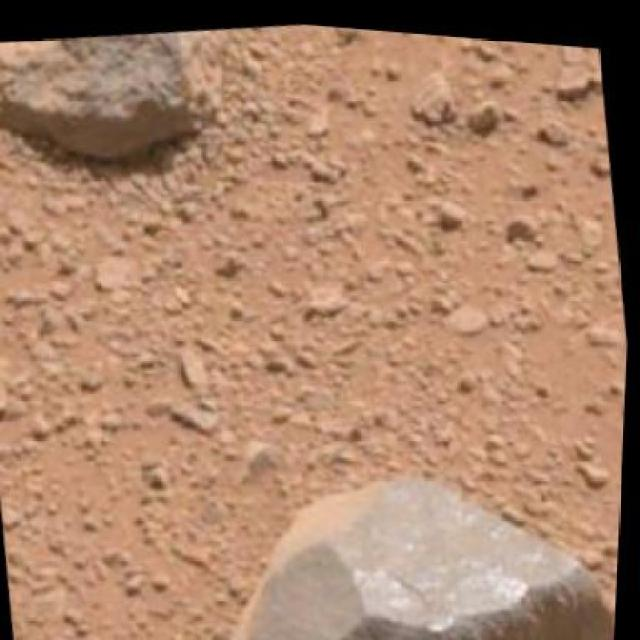rock: (182, 422, 624, 638), (0, 4, 277, 190)
